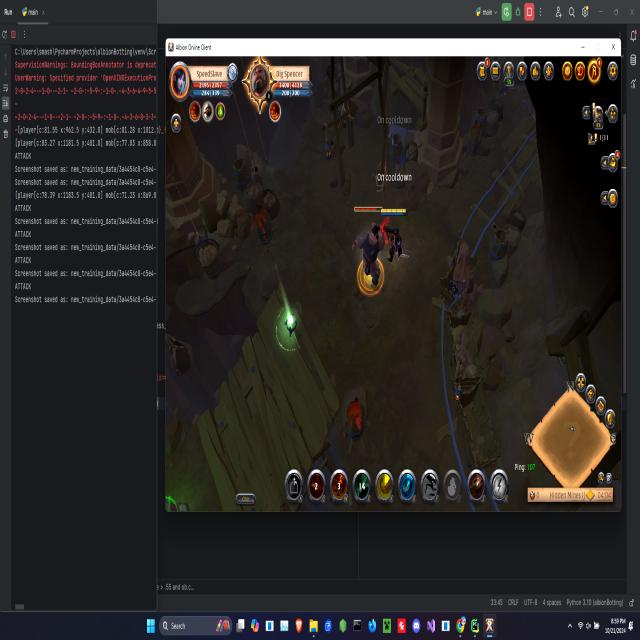ore: (348, 202, 391, 298), (520, 95, 536, 127)
red: (380, 204, 412, 265)
